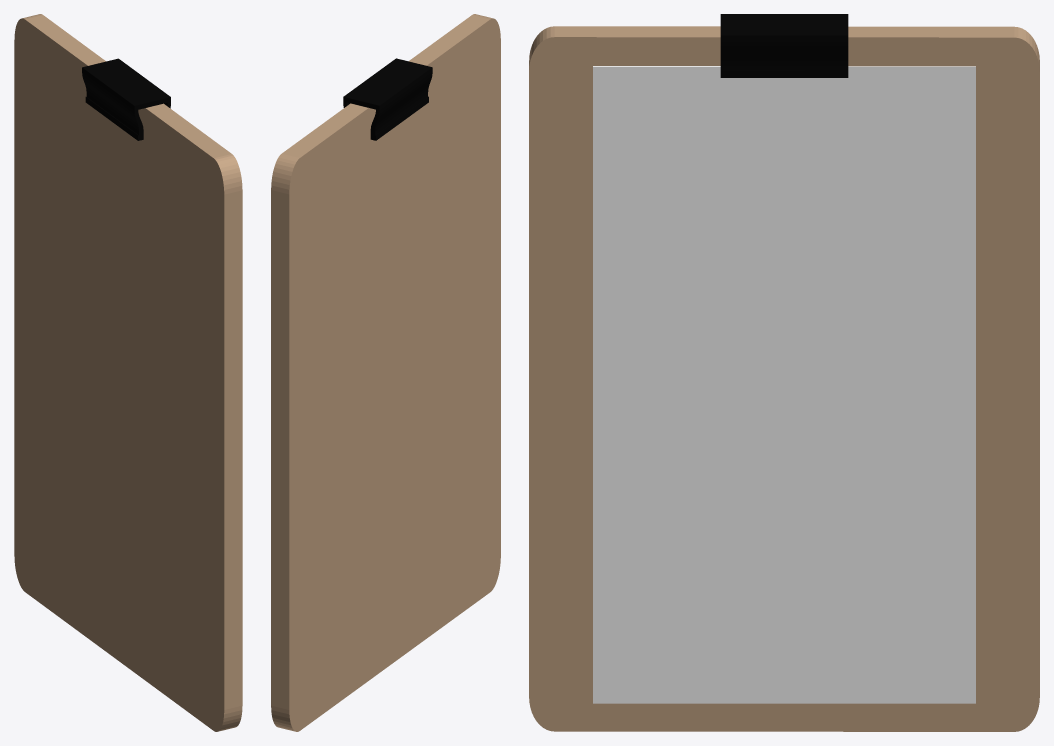
Rendered from Clipboard.fbx.
3 views of the same model, side by side, from view 1: azimuth 30°, elevation 25°; view 2: azimuth 150°, elevation 25°; view 3: azimuth 270°, elevation 25° (orthographic). The views are drawn at different scales.
Visible parts, largest first — view 1: Board, Clip; view 2: Board, Clip; view 3: Paper, Board, Clip.
Boxes of the visible parts, box(x1,y1,x2,y2) form: Board: box(14, 14, 242, 731); Clip: box(82, 58, 170, 140); Board: box(271, 14, 500, 731); Clip: box(343, 58, 432, 140); Paper: box(593, 66, 975, 703); Board: box(529, 26, 1039, 731); Clip: box(720, 14, 848, 77).
Size of the model in its own units: 4.02 by 60.51 by 40.
